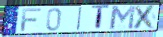0: (45, 7, 63, 32)
F: (20, 8, 43, 32)
I: (76, 6, 84, 32)
M: (109, 5, 137, 30)
T: (91, 4, 111, 32)
X: (131, 4, 158, 30)
